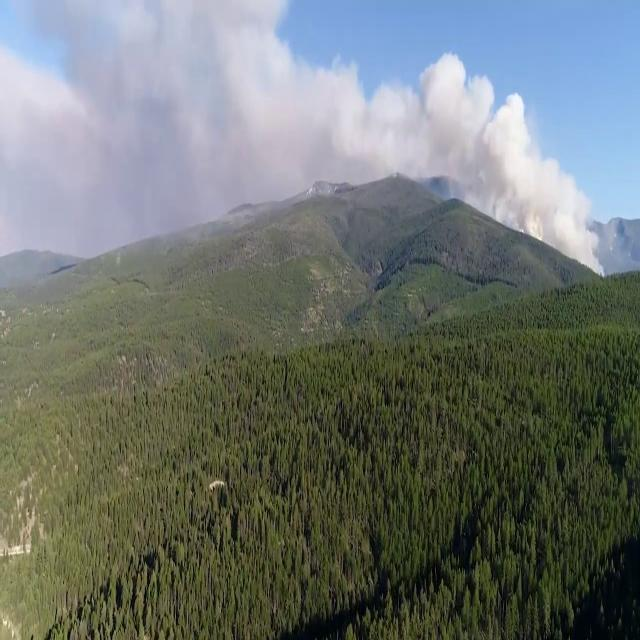Smoke: (14, 23, 606, 243), (591, 203, 639, 280)
